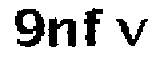9: (13, 6, 45, 49)
f: (82, 6, 106, 51)
n: (47, 14, 78, 51)
v: (116, 15, 150, 50)
